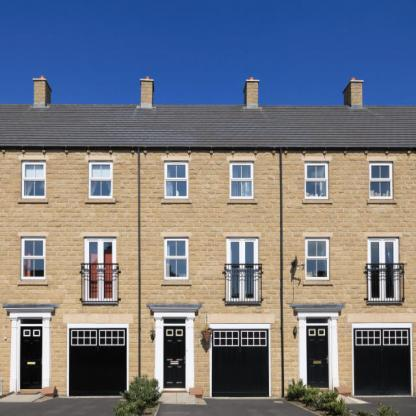Cornice: (63, 314, 133, 323), (207, 314, 276, 323), (347, 313, 416, 322), (3, 304, 58, 313), (147, 303, 202, 312), (290, 304, 345, 312), (225, 233, 262, 238), (366, 232, 403, 237), (303, 232, 333, 237), (82, 233, 119, 237), (161, 233, 190, 238), (19, 156, 48, 160), (86, 156, 115, 160), (162, 156, 191, 160), (227, 156, 256, 160), (303, 157, 332, 161), (367, 157, 396, 161), (19, 233, 48, 237)
Dont: (285, 376, 352, 416), (112, 375, 163, 416)
Door: (69, 328, 127, 397), (211, 329, 269, 398), (354, 328, 411, 397), (20, 326, 42, 389), (164, 326, 186, 389), (306, 326, 328, 388)
Facade: (0, 147, 415, 397)
Ground Floor: (0, 310, 415, 397), (0, 223, 415, 303)
Roof: (0, 103, 416, 148)
Sill: (19, 279, 48, 285), (162, 280, 191, 286), (86, 198, 117, 203), (17, 198, 48, 203), (162, 199, 191, 204), (228, 199, 257, 204), (303, 199, 332, 204), (367, 199, 396, 204), (303, 280, 332, 285)
Top Floor: (0, 147, 415, 216)
Window: (84, 237, 116, 302), (227, 237, 259, 302), (368, 236, 400, 301), (305, 237, 329, 280), (165, 238, 189, 281), (21, 237, 45, 280), (164, 160, 188, 199), (230, 160, 254, 199), (369, 161, 393, 199), (22, 160, 46, 198), (89, 160, 113, 198), (305, 161, 329, 199), (306, 318, 328, 323), (164, 319, 185, 324), (21, 319, 42, 324)
object: (0, 216, 415, 223), (0, 303, 415, 310)
